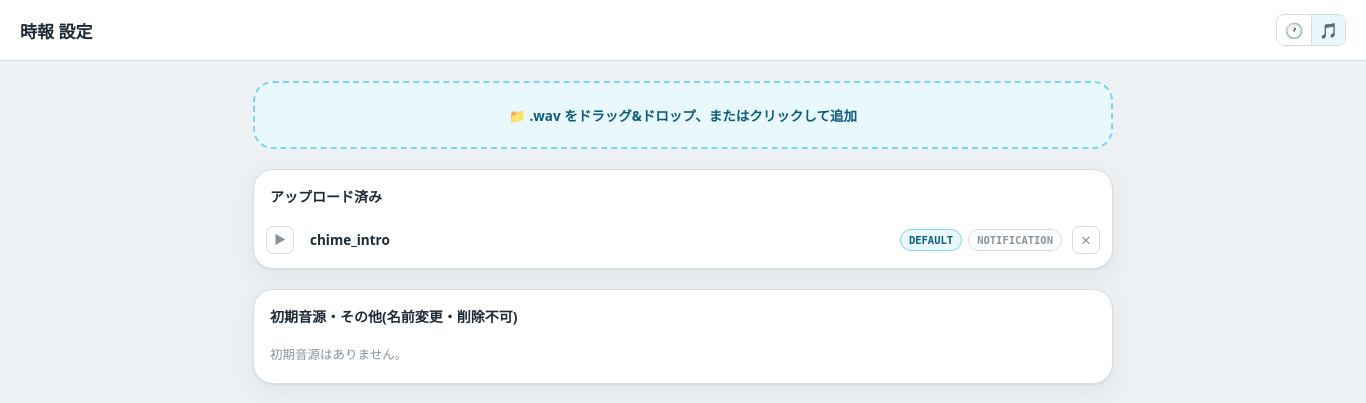
Test: 楽曲管理画面 › 名前変更に成功すると一覧に反映される
Click the button with aria-label "chime_intro(クリックして名前を変更)".
click(350, 240)  # box [304,227,890,253]
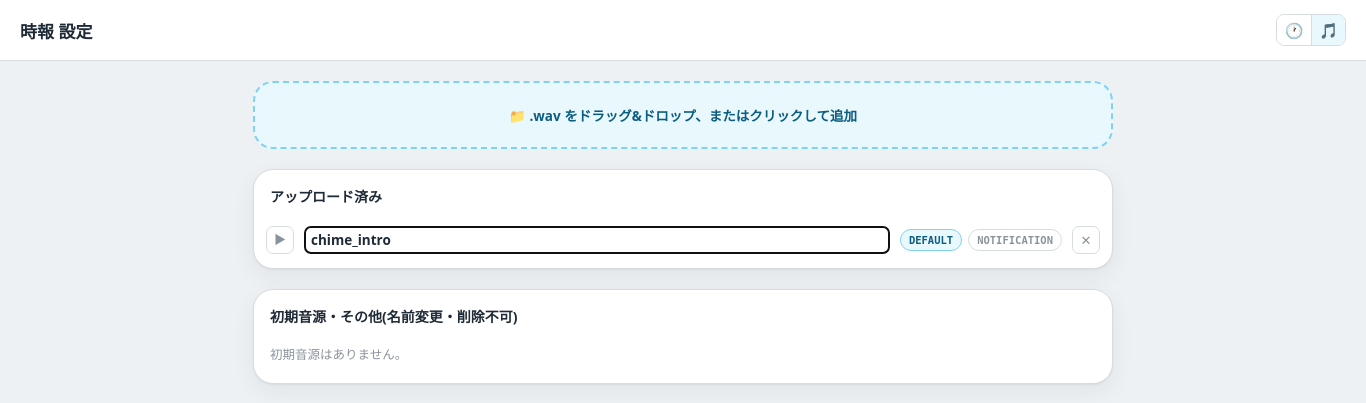
Replace the text in the field named "楽曲名" with "renamed_chime" at (597, 240), box [304,226,890,254]
Then press Enter
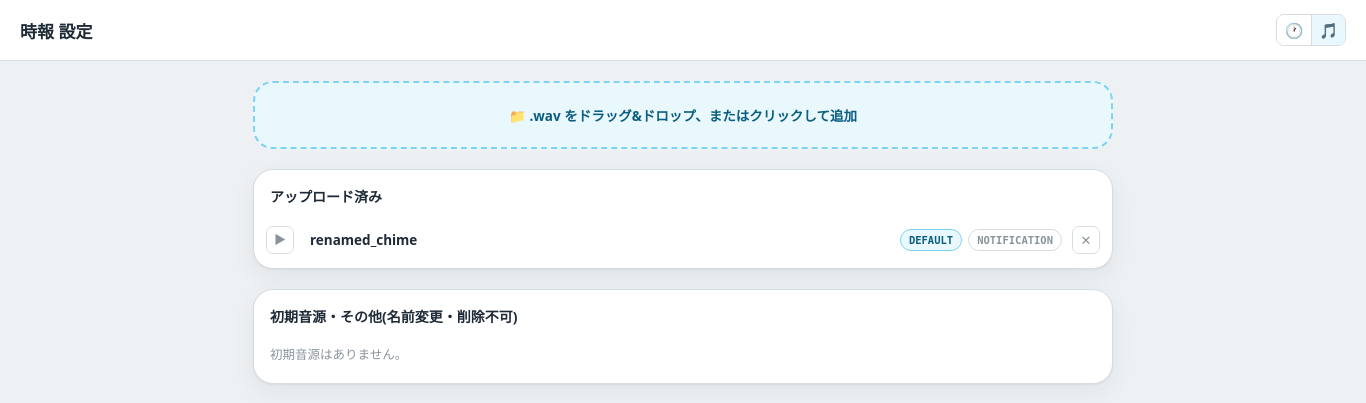
Now the button "renamed_chime" is shown, box [304,227,890,253]
